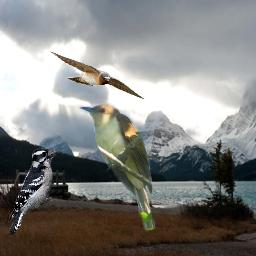Cuckoo: (76, 102, 158, 236)
Swallow: (48, 49, 146, 99)
Woodpecker: (8, 147, 60, 236)
